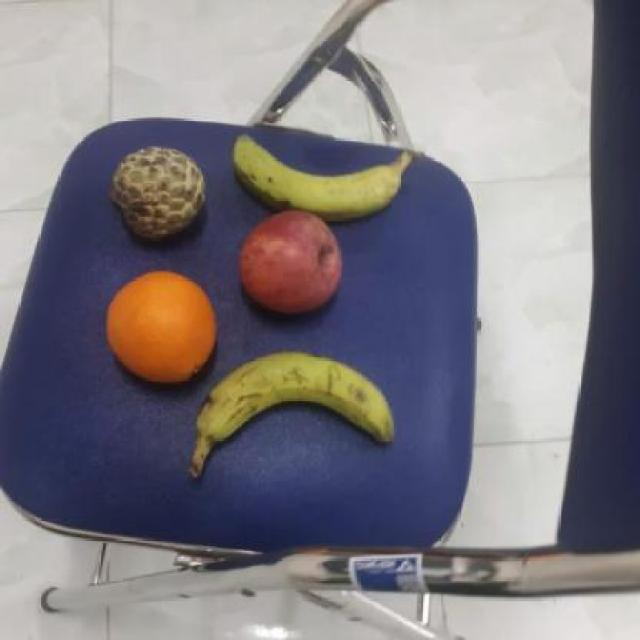apple: (233, 206, 347, 317)
banana: (184, 351, 401, 451), (221, 132, 407, 221)
oren: (98, 265, 221, 385)
sugar apple: (102, 139, 210, 242)
